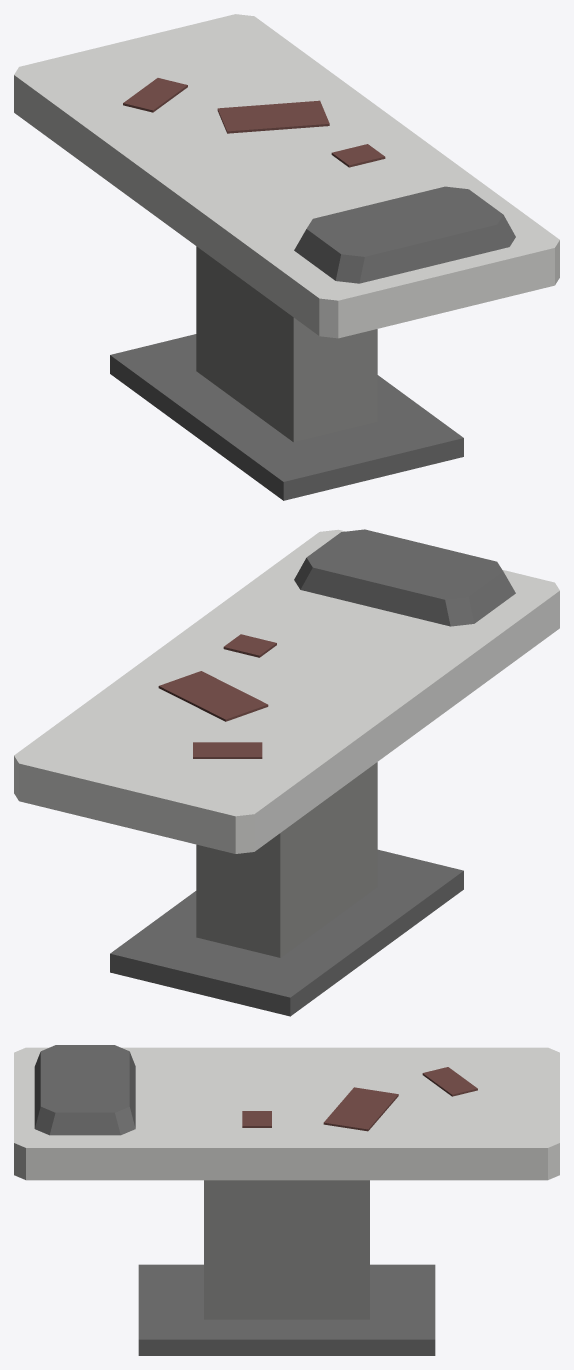
Rendered from oc_operating_table.obj.
3 views of the same model, one above another, from view 1: azimuth 30°, elevation 25°; view 2: azimuth 150°, elevation 25°; view 3: azimuth 270°, elevation 25° (orthographic). The views are drawn at different scales.
Visible parts, largest first — view 1: oc_operating_table_2, oc_operating_table_0, oc_operating_table_1, oc_operating_table_3, oc_operating_table_4, oc_operating_table_5, oc_operating_table_6; view 2: oc_operating_table_2, oc_operating_table_0, oc_operating_table_1, oc_operating_table_3, oc_operating_table_4, oc_operating_table_5, oc_operating_table_6; view 3: oc_operating_table_2, oc_operating_table_1, oc_operating_table_0, oc_operating_table_3, oc_operating_table_4, oc_operating_table_5, oc_operating_table_6.
Part boxes in pixels (x1,y1,x2,y2): oc_operating_table_2: (14, 14, 559, 338); oc_operating_table_0: (110, 334, 463, 500); oc_operating_table_1: (196, 246, 377, 442); oc_operating_table_3: (294, 186, 515, 283); oc_operating_table_4: (217, 100, 329, 133); oc_operating_table_5: (123, 78, 187, 112); oc_operating_table_6: (331, 144, 385, 167); oc_operating_table_2: (14, 529, 559, 853); oc_operating_table_0: (110, 849, 463, 1016); oc_operating_table_1: (196, 762, 377, 957); oc_operating_table_3: (294, 529, 515, 626); oc_operating_table_4: (158, 671, 268, 721); oc_operating_table_5: (193, 742, 262, 758); oc_operating_table_6: (223, 634, 276, 657); oc_operating_table_2: (14, 1047, 559, 1180); oc_operating_table_1: (204, 1180, 369, 1319); oc_operating_table_0: (138, 1264, 435, 1355); oc_operating_table_3: (34, 1045, 135, 1135); oc_operating_table_4: (323, 1087, 398, 1131); oc_operating_table_5: (422, 1067, 477, 1096); oc_operating_table_6: (242, 1111, 271, 1127).
Bounding box in the file's own units: 0.8 × 0.89 × 1.84.
